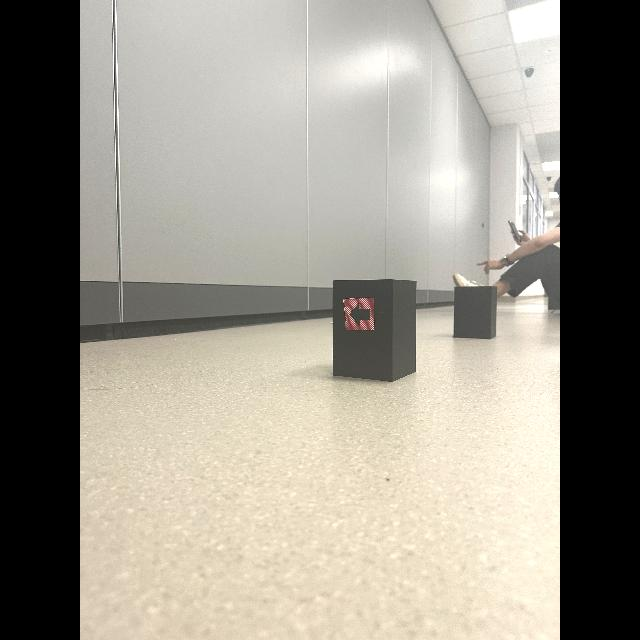LEFT: (349, 303, 370, 326)
